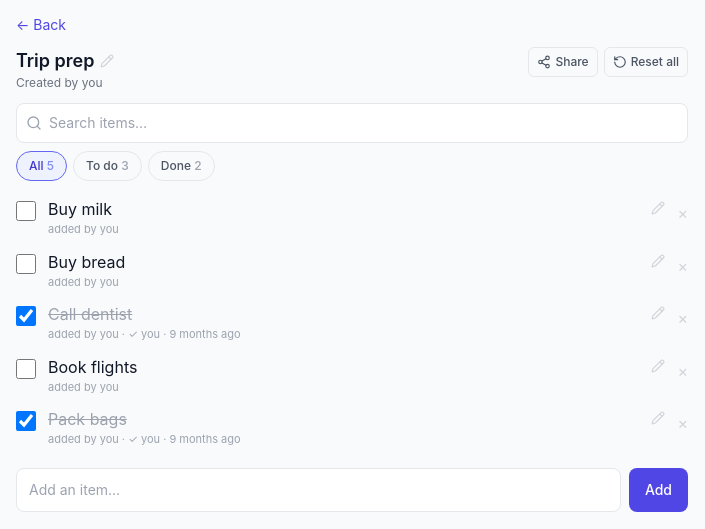
ChecklistDetail search & filter › "To do" hides checked items and "Done" shows only checked items
The image size is (705, 529).
Click the button "To do 3".
click(107, 166)  # box [73,151,142,181]
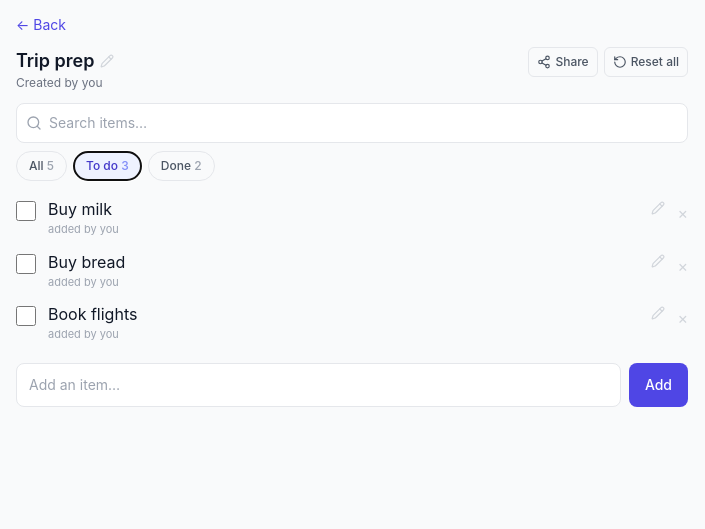
Expected: the text "Buy milk" is shown, [48,199,112,219]
Now the text "Call dentist" is gone
Now the text "Pack bags" is gone
Click the button "Done 2".
click(181, 166)  # box [148,151,215,181]
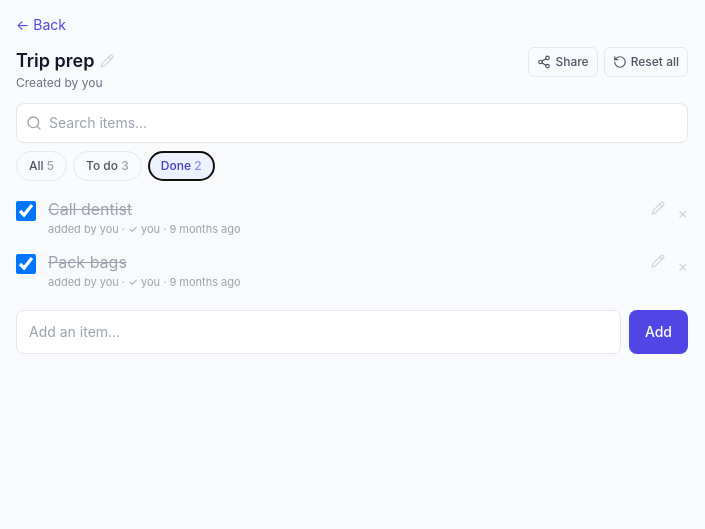
Now the text "Call dentist" is shown, box [48,199,132,219]
Now the text "Pack bags" is shown, box [48,252,127,272]
Now the text "Buy milk" is gone
